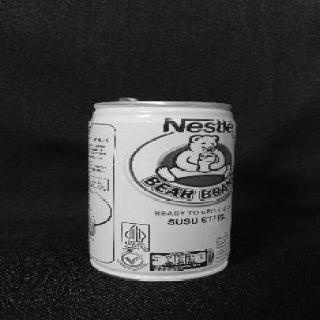alumunium_can: (88, 98, 236, 282)
